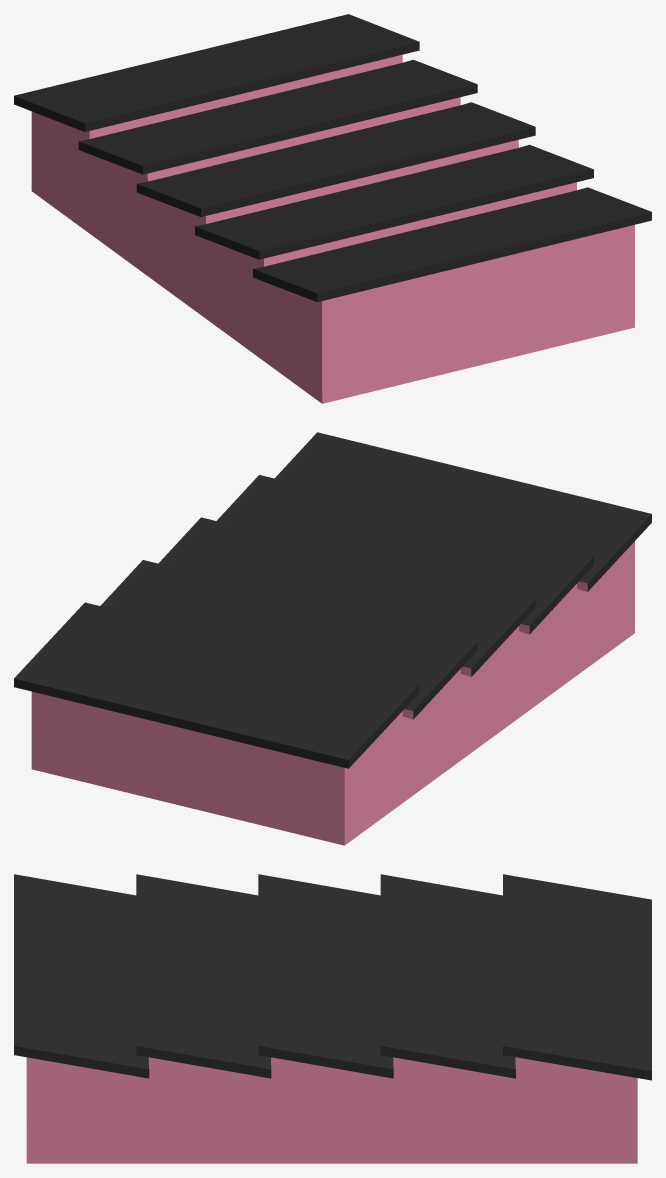
File: FactoryBuilding.FBX
3 renders of one model, top to bottom at view 1: azimuth 30°, elevation 25°; view 2: azimuth 150°, elevation 25°; view 3: azimuth 270°, elevation 25°, orthographic. The views are drawn at different scales.
Visible parts, largest first — view 1: factory building 1; view 2: factory building 1; view 3: factory building 1.
Part boxes in pixels (x1,y1,x2,y2): factory building 1: (14,14,651,403); factory building 1: (14,432,651,845); factory building 1: (14,874,651,1163).
Size of the model in its own units: 170 by 57.02 by 267.
